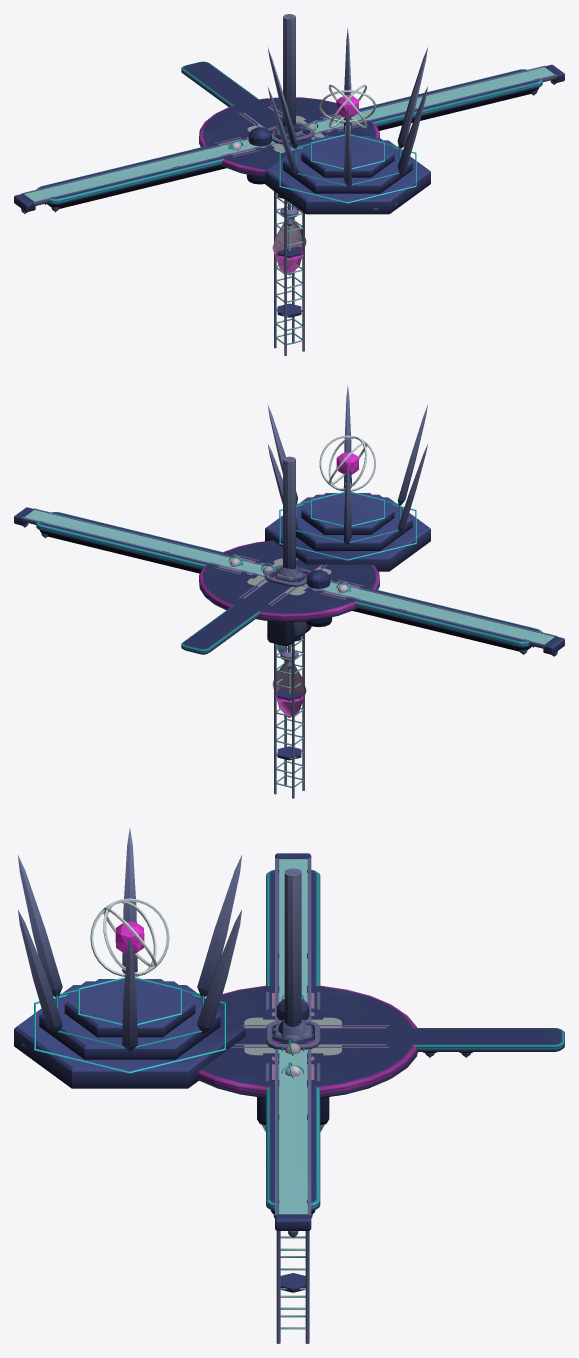
Rendered from core-2-B-QoYziy.glb.
The picture shows the model from 3 angles, top to bottom: view 1: azimuth 30°, elevation 25°; view 2: azimuth 150°, elevation 25°; view 3: azimuth 270°, elevation 25°; orthographic projection. The views are drawn at different scales.
Parts seen in each view (by area): view 1: summit_#0, beam_48x1.5x2#1, block_44x2x3#1, truss_18#0, block_2.5x2x30_grate#1, disc_14x1.5#0, disc_12x1.5#1, press_2x6x4#0, blade_3x12x1#0, boltPost_#0, beam_13.100000000000364x1.5x3#0; view 2: summit_#0, beam_48x1.5x2#1, block_44x2x3#1, disc_14x1.5#0, block_2.5x2x30_grate#1, truss_18#0, disc_12x1.5#1, press_2x6x4#0, blade_3x12x1#0, boltPost_#0, beam_13.100000000000364x1.5x3#0; view 3: summit_#0, beam_48x1.5x2#1, disc_14x1.5#0, block_2.5x2x30_grate#1, block_44x2x3#1, disc_12x1.5#1, press_2x6x4#0, truss_18#0, beam_3x1.5x12#1, beam_13.100000000000364x1.5x3#0, jetVent_3x2.5#0, disc_8x1.5#0.
Boxes of the visible parts, box(x1,y1,x2,y2) form: summit_#0: box(265, 28, 430, 214); beam_48x1.5x2#1: box(14, 64, 564, 214); block_44x2x3#1: box(36, 69, 542, 212); truss_18#0: box(274, 191, 304, 355); block_2.5x2x30_grate#1: box(181, 61, 397, 211); disc_14x1.5#0: box(199, 97, 379, 194); disc_12x1.5#1: box(216, 103, 362, 164); press_2x6x4#0: box(269, 14, 299, 210); blade_3x12x1#0: box(272, 122, 306, 275); boltPost_#0: box(246, 127, 272, 184); beam_13.100000000000364x1.5x3#0: box(209, 113, 369, 158); summit_#0: box(265, 385, 430, 571); beam_48x1.5x2#1: box(14, 507, 564, 656); block_44x2x3#1: box(36, 512, 542, 654); disc_14x1.5#0: box(199, 540, 379, 637); block_2.5x2x30_grate#1: box(181, 559, 321, 654); truss_18#0: box(274, 634, 304, 798); disc_12x1.5#1: box(216, 546, 362, 607); press_2x6x4#0: box(267, 456, 311, 653); blade_3x12x1#0: box(272, 564, 306, 717); boltPost_#0: box(305, 569, 332, 627); beam_13.100000000000364x1.5x3#0: box(209, 553, 369, 600); summit_#0: box(14, 828, 245, 1088); beam_48x1.5x2#1: box(275, 853, 311, 1238); disc_14x1.5#0: box(198, 985, 417, 1098); block_2.5x2x30_grate#1: box(21, 1028, 564, 1051); block_44x2x3#1: box(266, 869, 320, 1218); disc_12x1.5#1: box(211, 994, 391, 1078); press_2x6x4#0: box(257, 868, 329, 1131); truss_18#0: box(276, 1231, 309, 1343); beam_3x1.5x12#1: box(230, 1025, 399, 1047); beam_13.100000000000364x1.5x3#0: box(266, 987, 320, 1085); jetVent_3x2.5#0: box(266, 1020, 320, 1049); disc_8x1.5#0: box(232, 1011, 355, 1061).
Bounding box in the file's own units: 48 × 28.3 × 30.4.
